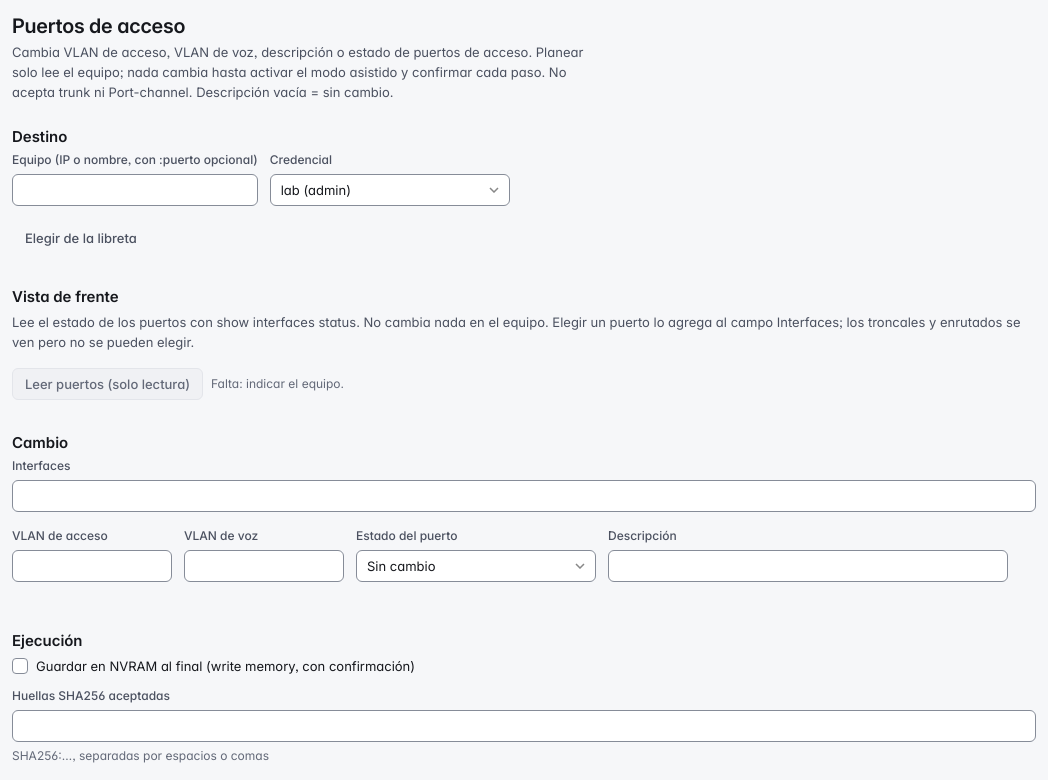
planear solo lee: manda la petición, muestra lo que se aplica y la reversa, y no hay aviso de modo activo
In the field labelled "Equipo (IP o nombre, con :puerto opcional)": (135, 190) left=12, top=174, right=258, bottom=206, type "10.0.0.5:2222"
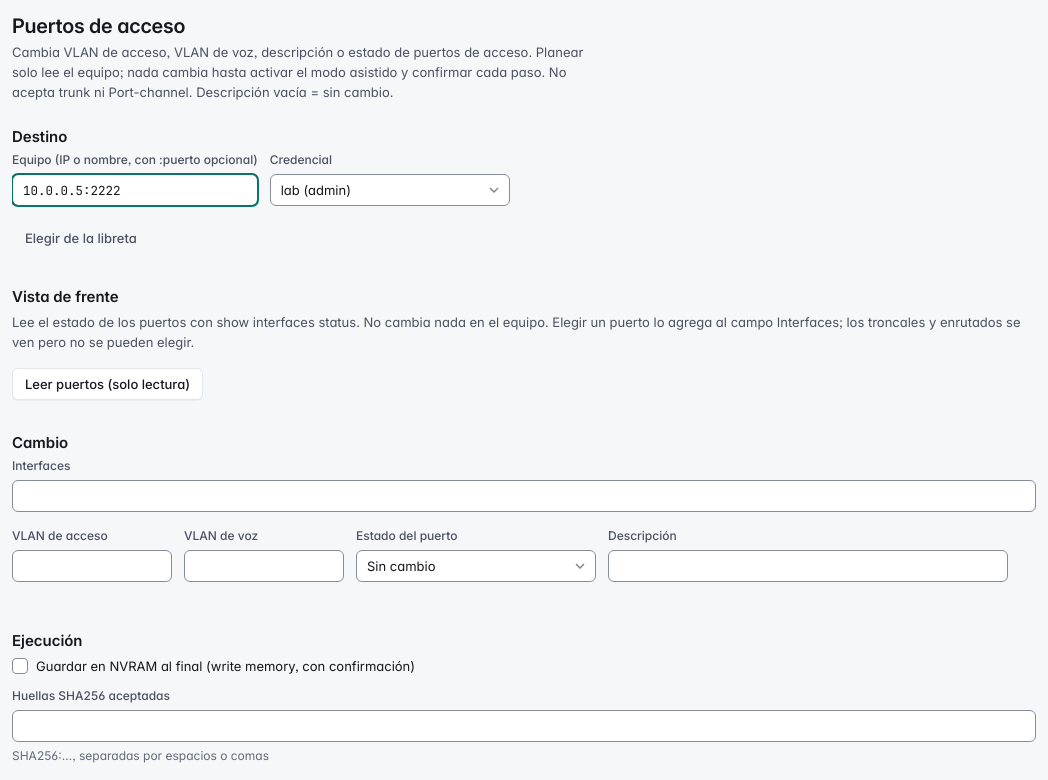
In the field labelled "Interfaces": (524, 496) left=12, top=480, right=1036, bottom=512, type "GigabitEthernet1/0/1"
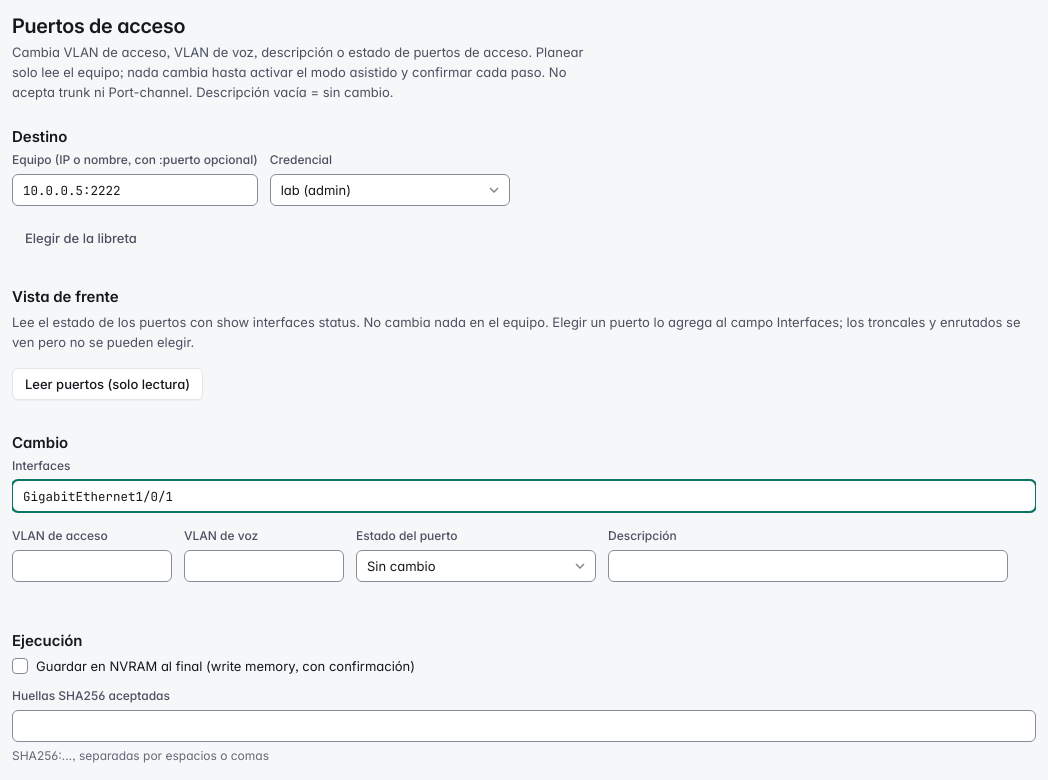
In the field labelled "VLAN de acceso": (92, 566) left=12, top=550, right=172, bottom=582, type "20"
(page scrolled)
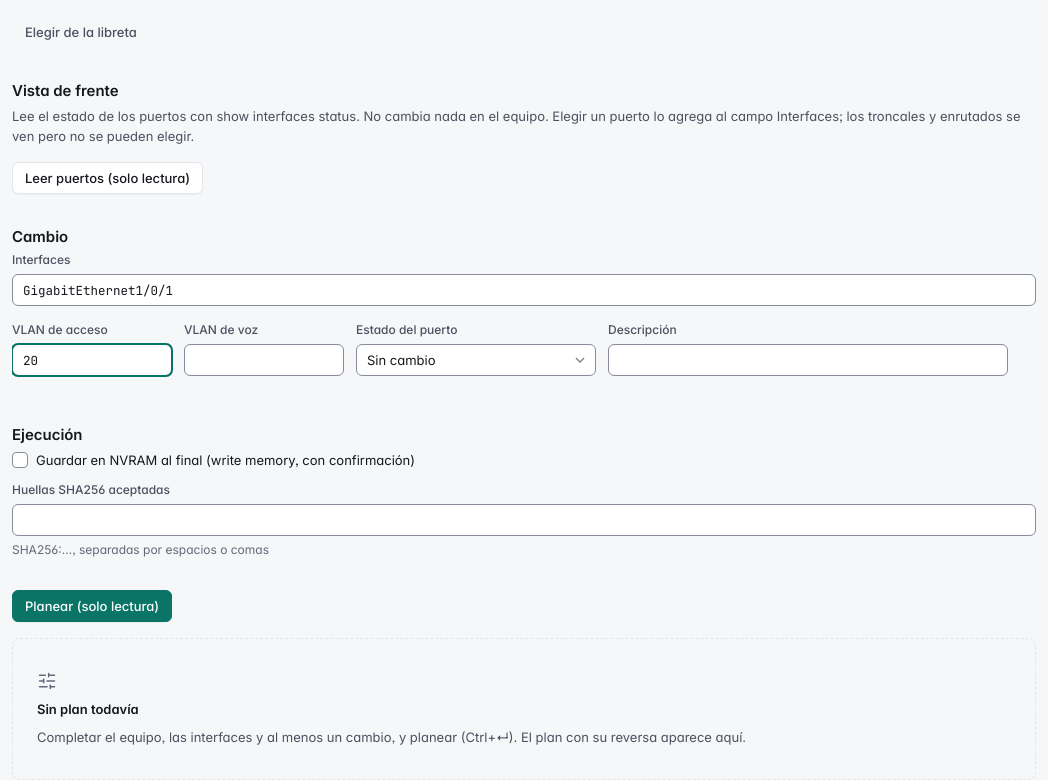
Click the button "Planear (solo lectura)": (92, 606) left=12, top=590, right=172, bottom=622
(page scrolled)
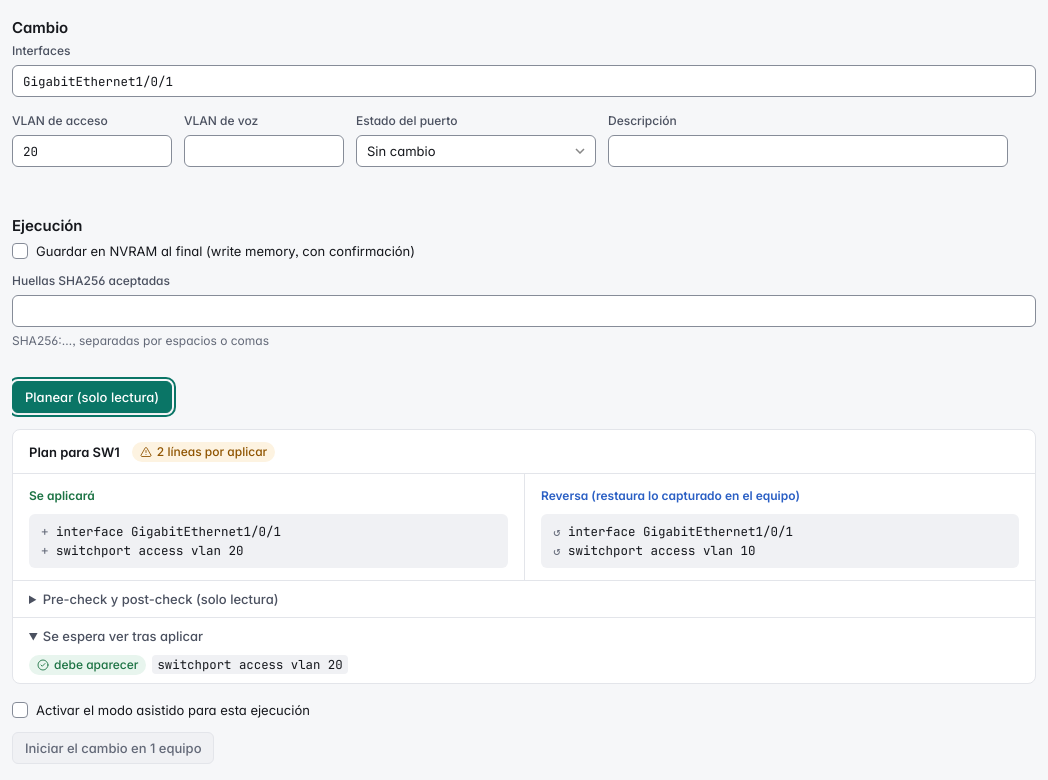
expect the element "Reversa" is shown: met, box left=524, top=474, right=1035, bottom=580
expect the button "Iniciar el cambio en 1 equipo" is disabled: met, box left=12, top=732, right=214, bottom=764
